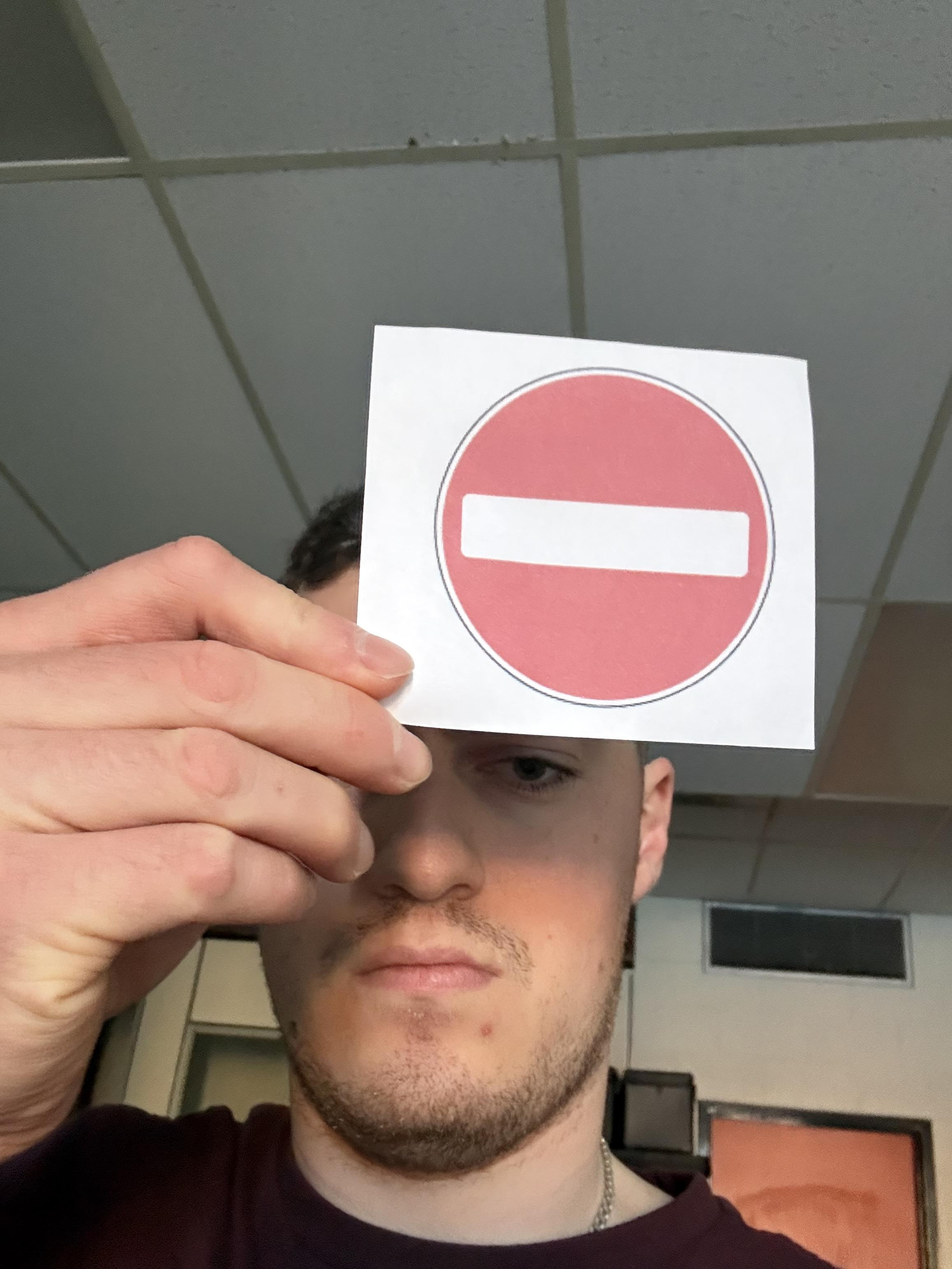No Entry: (267, 444, 612, 999)
